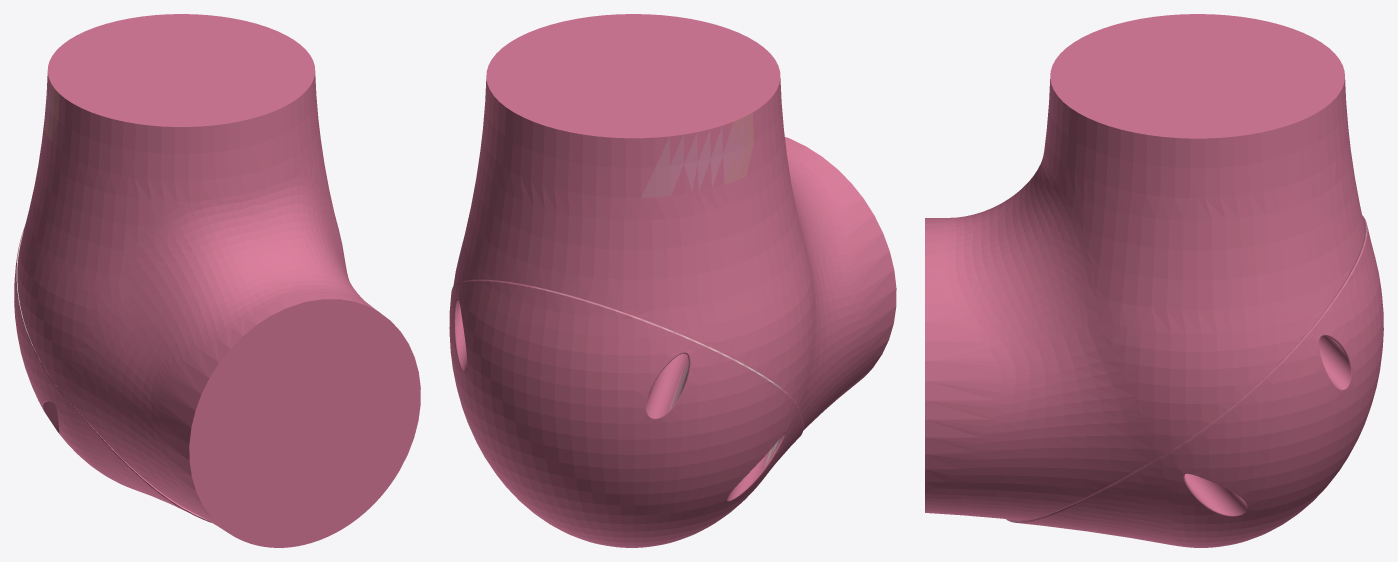
The model's file is FanucCRX10IALink5.dae.
3 views of the same model, side by side, from view 1: azimuth 30°, elevation 25°; view 2: azimuth 150°, elevation 25°; view 3: azimuth 270°, elevation 25° (orthographic). The views are drawn at different scales.
Parts seen in each view (by area): view 1: CRX10IALink5; view 2: CRX10IALink5; view 3: CRX10IALink5.
Part boxes in pixels (x1,y1,x2,y2): CRX10IALink5: (14,14,420,547); CRX10IALink5: (449,14,896,547); CRX10IALink5: (925,14,1383,547).
Size of the model in its own units: 0.1139 by 0.1431 by 0.1576.
